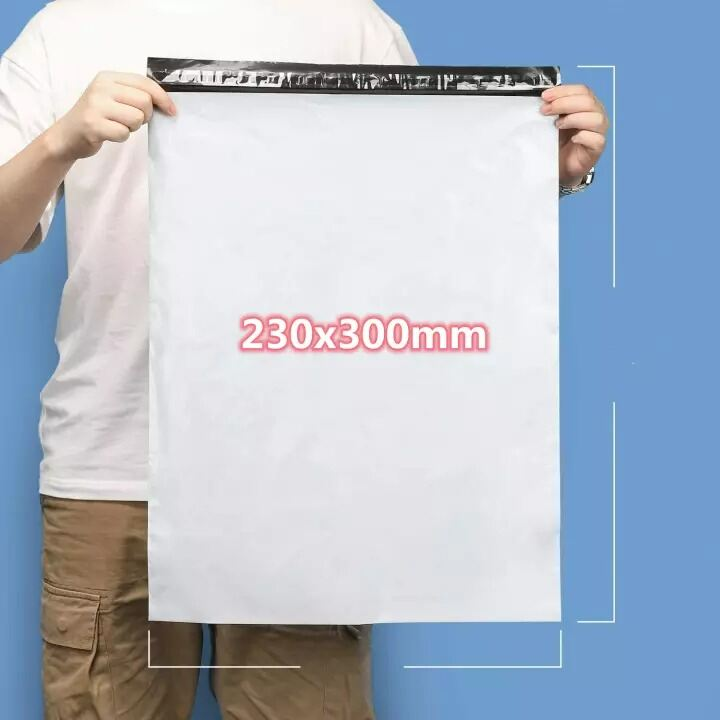Parcel: (147, 57, 560, 623)
